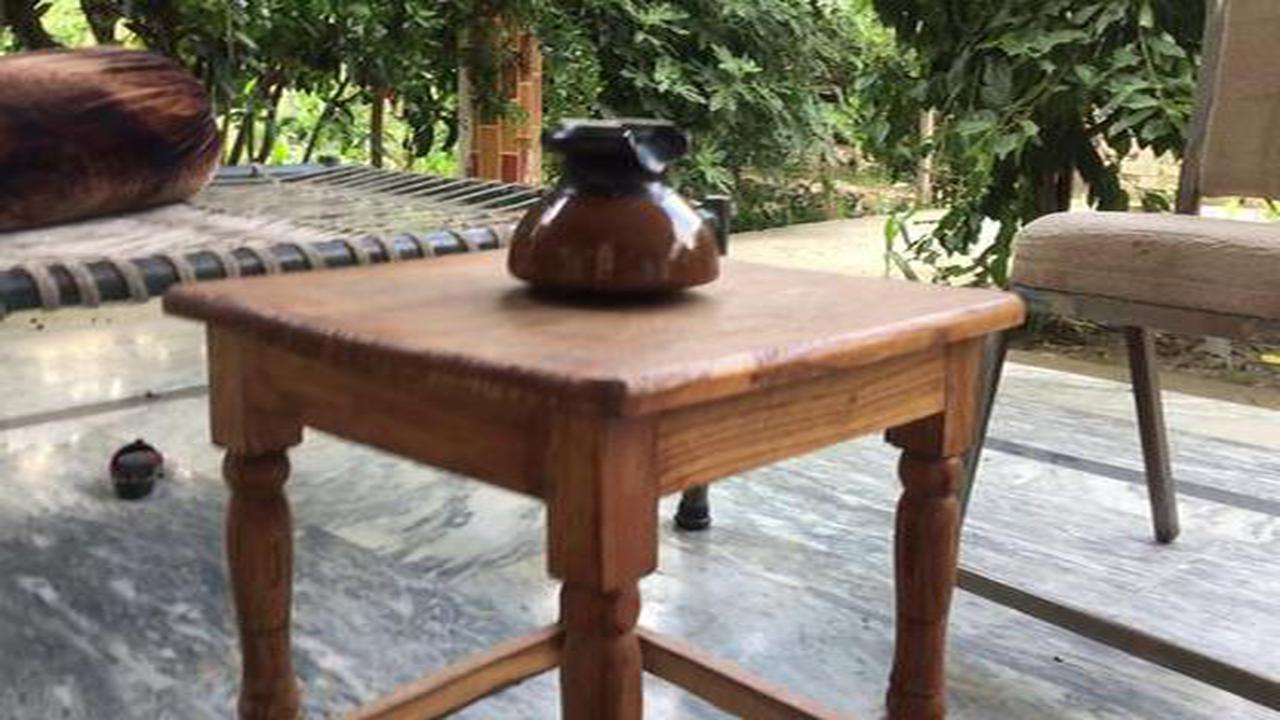insulator_pin: (487, 104, 742, 309)
